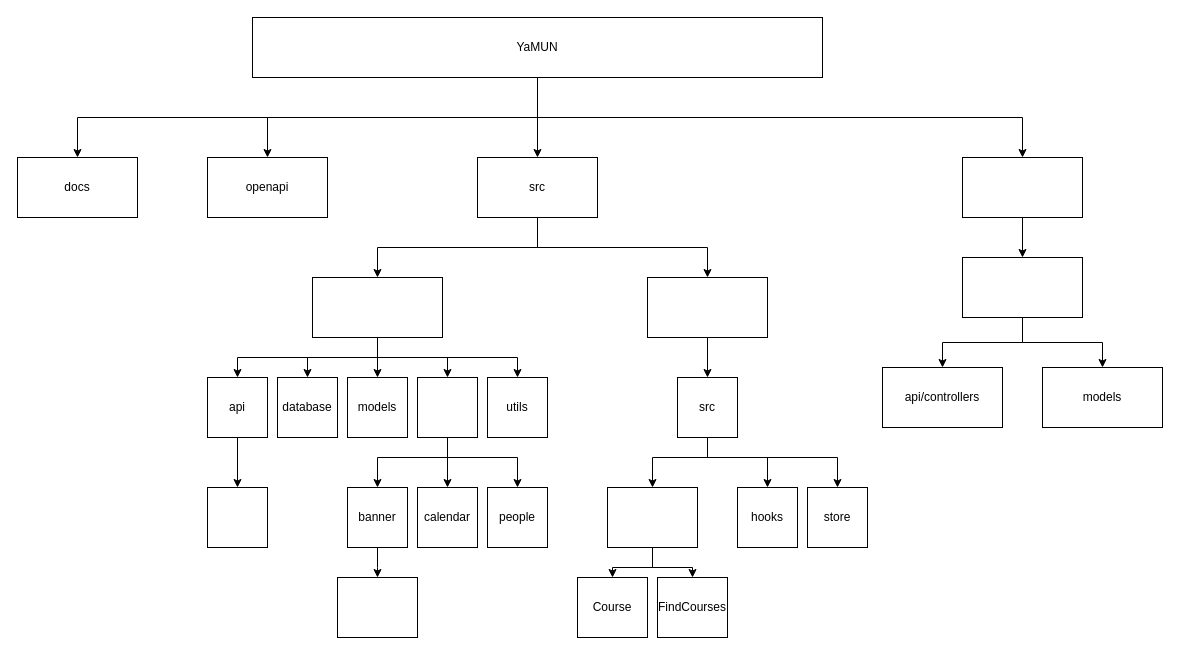
The diagram is 1180 pixels wide and 655 high, and some of its shapes have lost their labels. Here are the shapes that lost their labels. From the top down, the box of each, then its label:
(962, 156, 1082, 218): test
(312, 276, 442, 338): backend express and mongodb
(646, 276, 768, 338): frontend react
(962, 256, 1082, 318): backend
(416, 376, 478, 438): scrape
(206, 486, 268, 548): controllers
(606, 486, 698, 548): components
(336, 576, 418, 638): regular expressions
